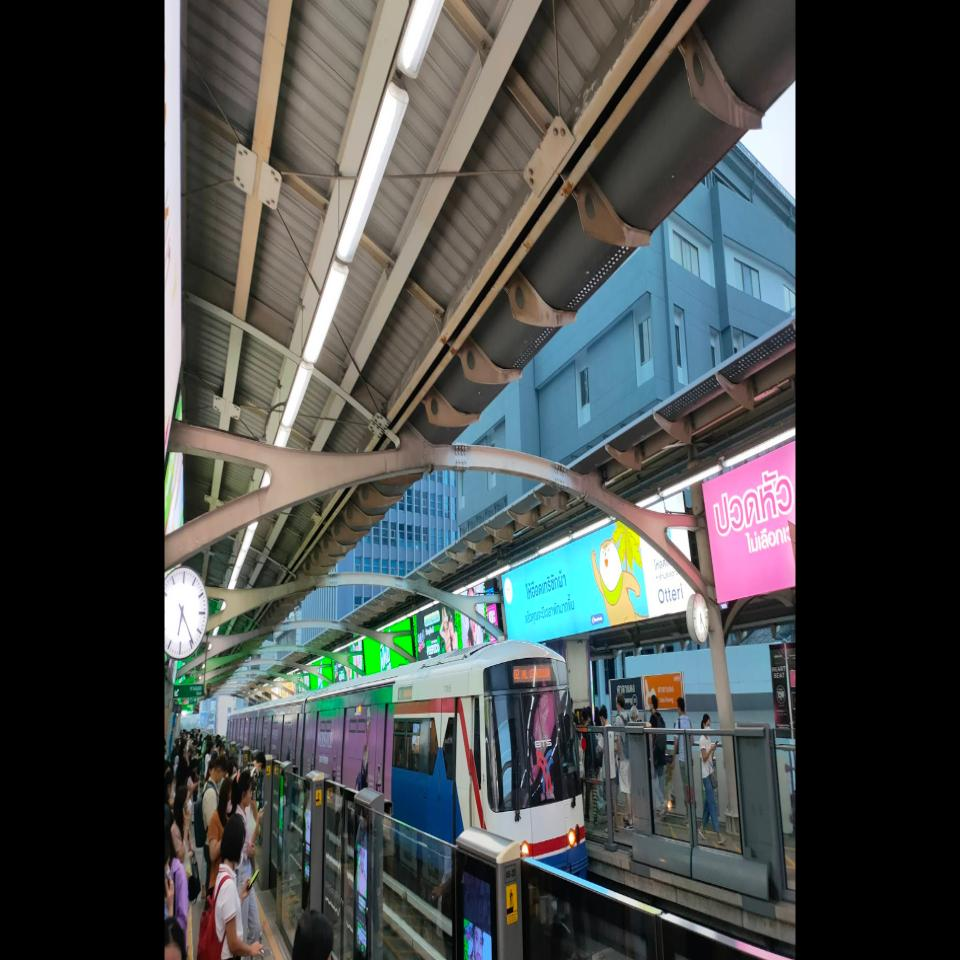signage: (642, 672, 685, 711), (610, 676, 645, 712)
